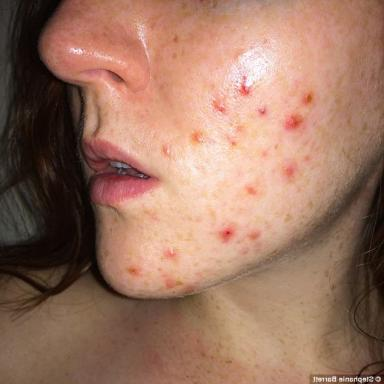acne: (283, 115, 302, 131), (219, 227, 235, 242), (239, 76, 250, 95), (284, 162, 296, 178), (185, 283, 200, 294), (213, 101, 226, 113), (163, 248, 177, 259), (302, 91, 313, 104), (191, 132, 204, 143), (248, 230, 261, 240), (246, 186, 257, 195), (258, 105, 267, 115), (166, 280, 175, 288), (163, 145, 169, 157), (304, 155, 311, 162), (230, 141, 237, 147), (129, 269, 137, 274)
